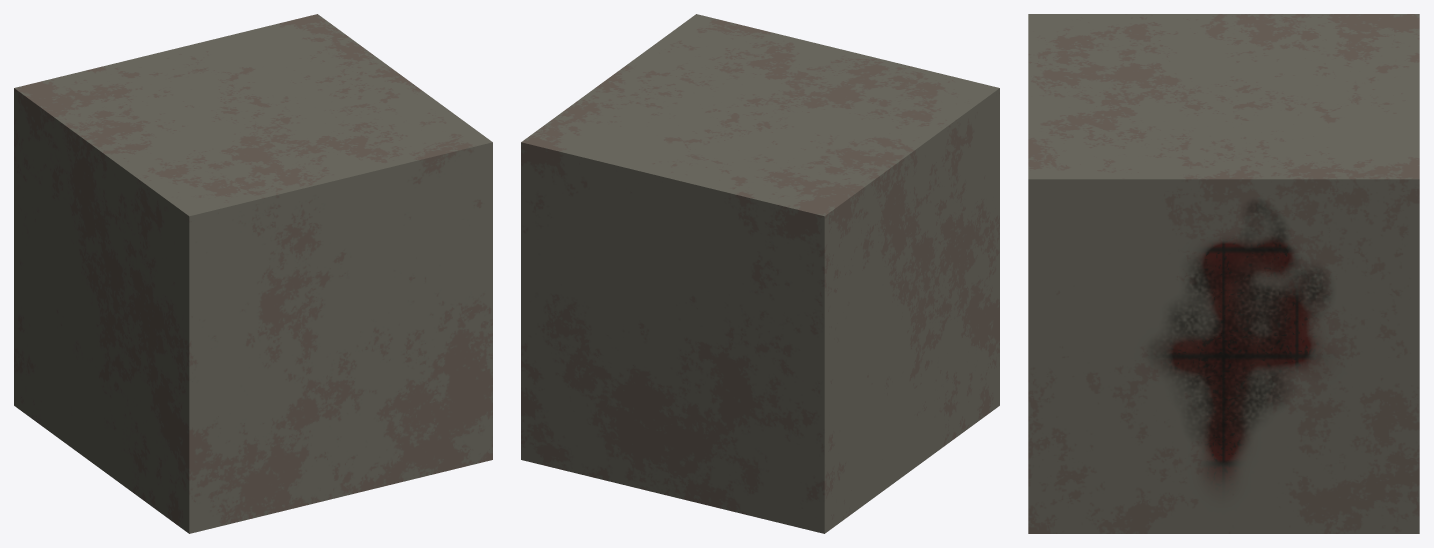
The model's file is DemoObject2 1.fbx.
The picture shows the model from 3 angles, left to right: view 1: azimuth 30°, elevation 25°; view 2: azimuth 150°, elevation 25°; view 3: azimuth 270°, elevation 25°; orthographic projection. The views are drawn at different scales.
Parts seen in each view (by area): view 1: Cube.001; view 2: Cube.001; view 3: Cube.001.
Part boxes in pixels (x1,y1,x2,y2): Cube.001: (14,14,492,533); Cube.001: (521,14,999,533); Cube.001: (1028,14,1419,533).
Bounding box in the file's own units: 540 × 540 × 540.
Materials: 1 (1 with a texture image).
